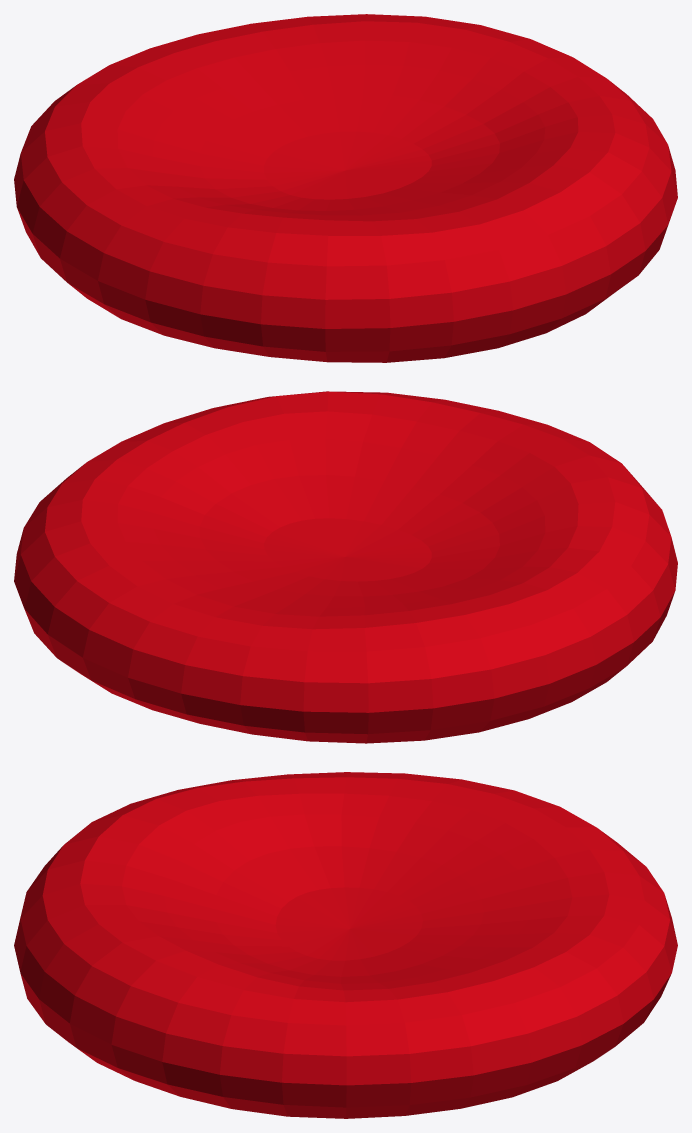
The model's file is RedBloodCell.fbx.
The picture shows the model from 3 angles, top to bottom: view 1: azimuth 30°, elevation 25°; view 2: azimuth 150°, elevation 25°; view 3: azimuth 270°, elevation 25°; orthographic projection.
Parts seen in each view (by area): view 1: Sphere; view 2: Sphere; view 3: Sphere.
Part boxes in pixels (x1,y1,x2,y2): Sphere: (14, 14, 677, 362); Sphere: (14, 391, 677, 743); Sphere: (14, 772, 677, 1118).
Size of the model in its own units: 199 by 40.86 by 200.
